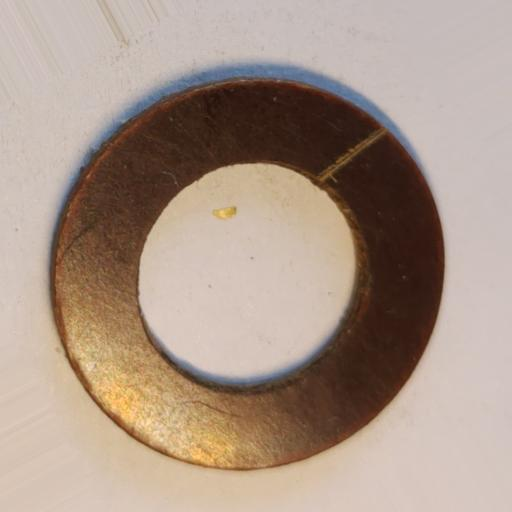defect: (318, 126, 389, 184)
